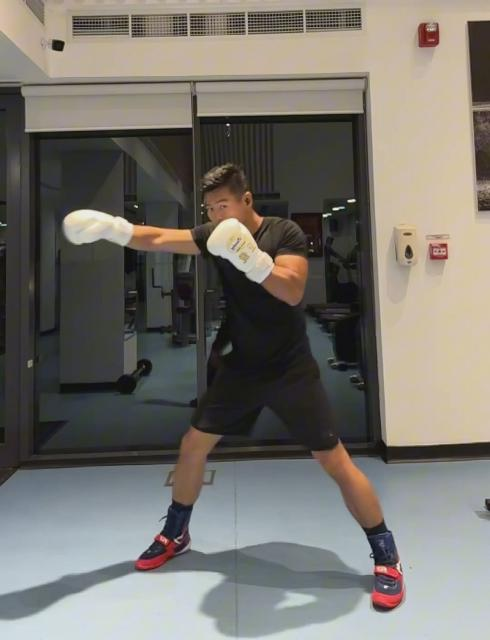punch: (49, 159, 409, 617)
